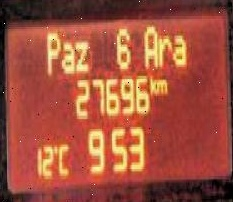1: (33, 142, 40, 177)
2: (73, 73, 88, 115), (41, 142, 52, 177)
3: (128, 122, 143, 173)
5: (109, 122, 125, 173)
6: (114, 24, 129, 69), (133, 71, 148, 113), (104, 73, 118, 113)
7: (89, 73, 103, 115)
9: (85, 124, 104, 173), (119, 73, 133, 113)
X: (44, 27, 59, 76), (142, 22, 157, 69), (73, 35, 88, 71), (170, 31, 185, 66), (157, 31, 171, 66), (59, 38, 73, 73), (57, 140, 68, 175), (156, 75, 167, 93), (149, 71, 155, 95)
